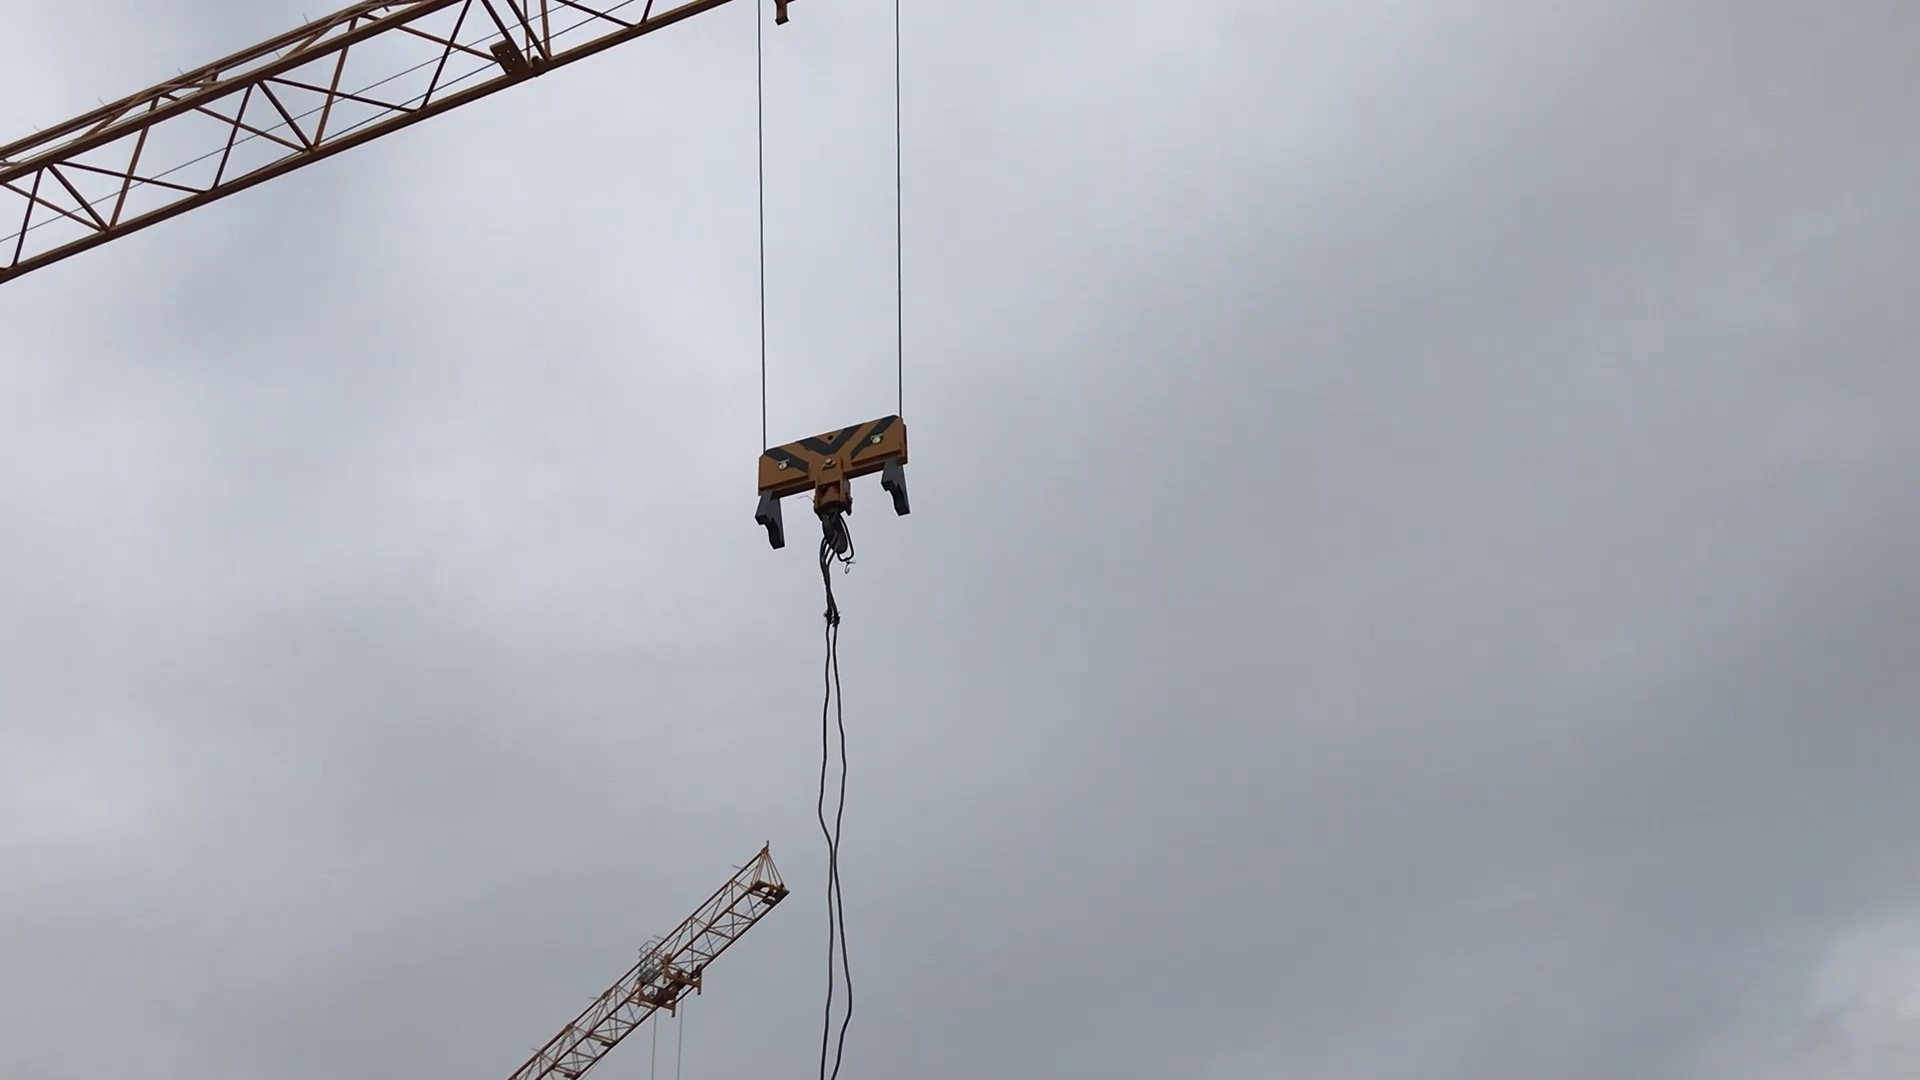hook: (752, 409, 928, 563)
